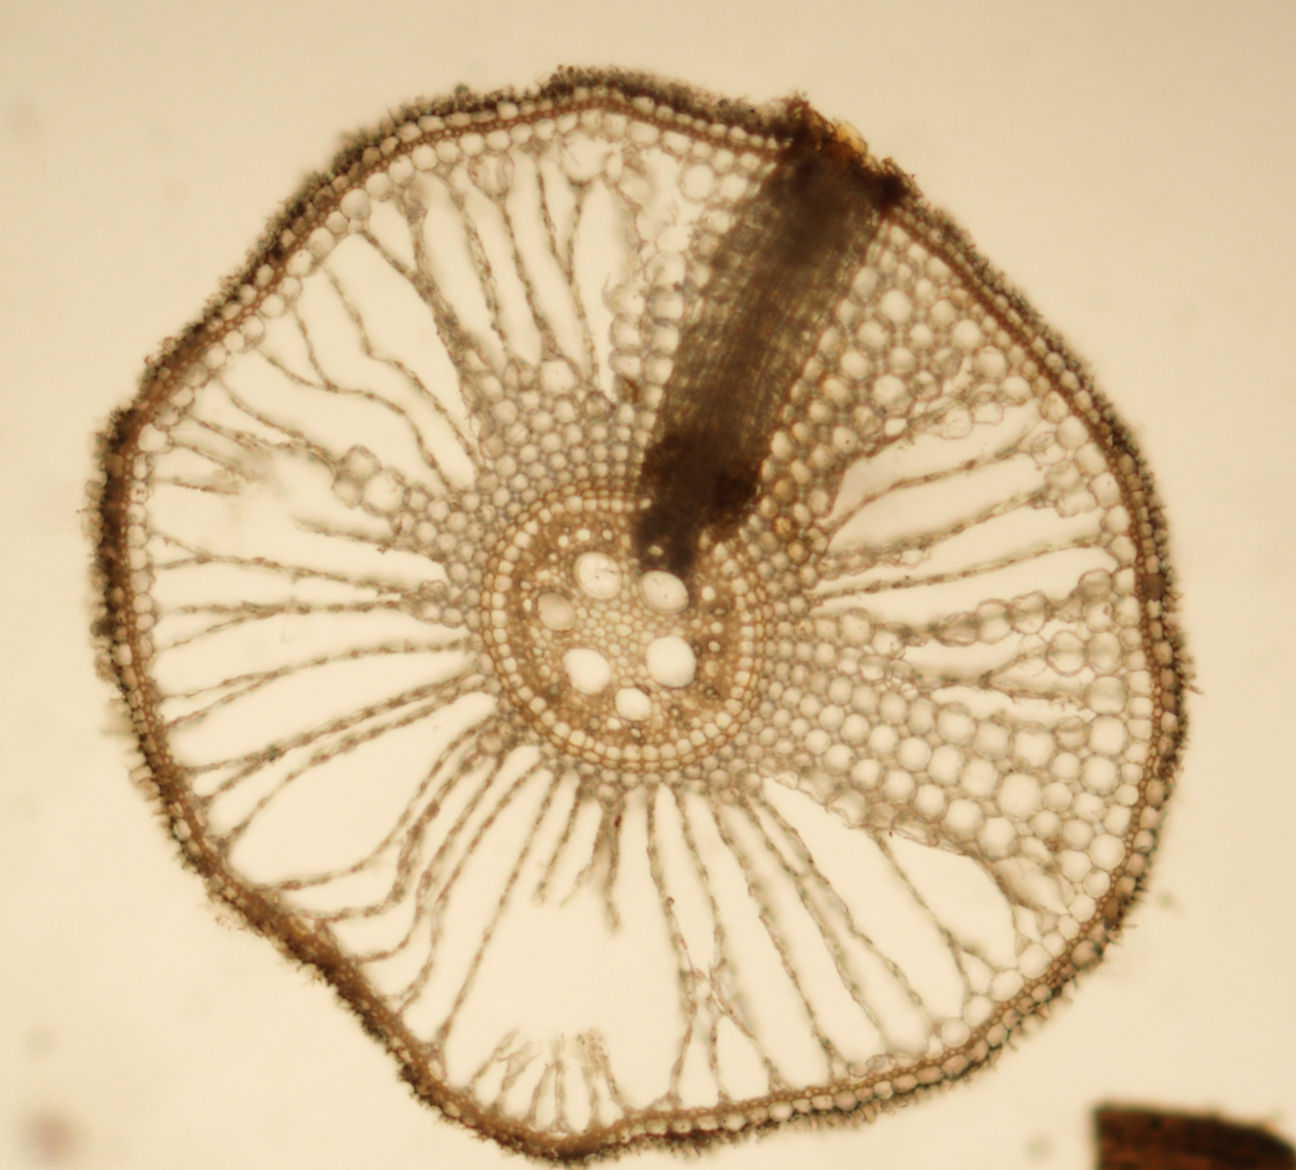lm: (645, 635, 697, 688), (573, 551, 622, 599), (562, 648, 610, 695), (638, 570, 689, 612), (537, 592, 575, 631), (615, 687, 653, 721)
